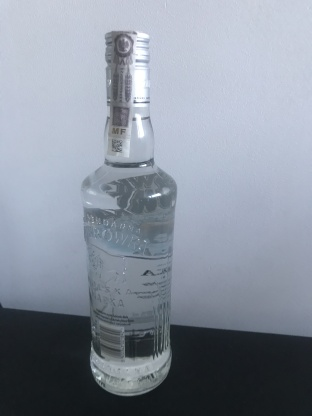nakretka: (103, 27, 153, 110)
